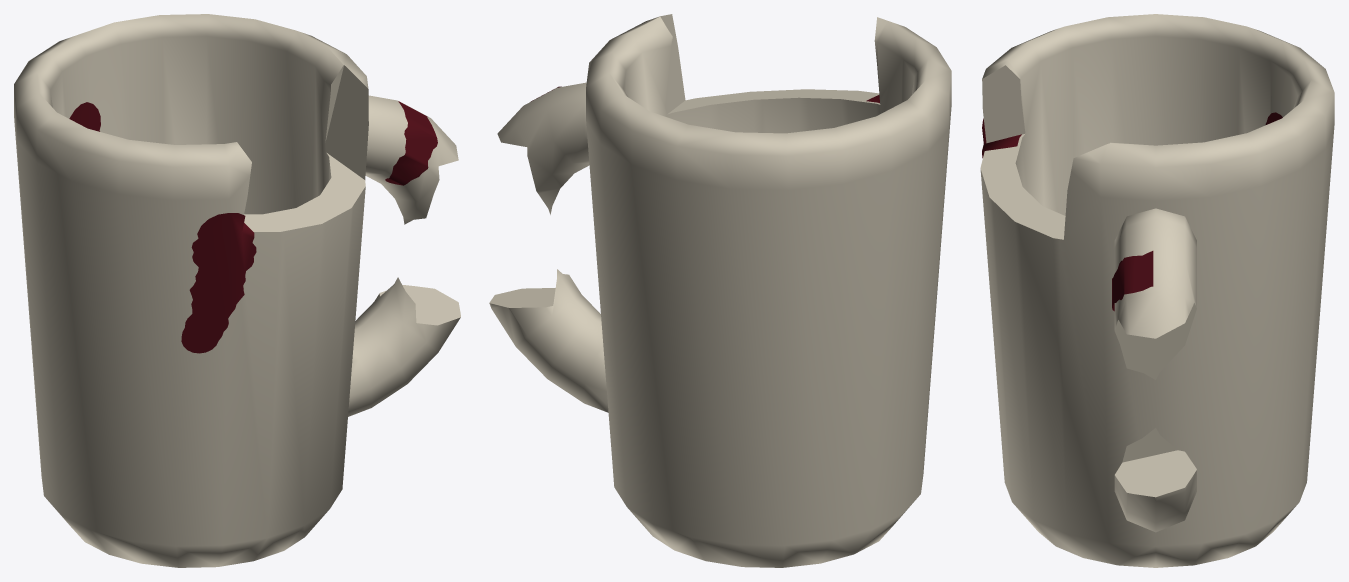
Rendered from mug.glb.
3 views of the same model, side by side, from view 1: azimuth 30°, elevation 25°; view 2: azimuth 150°, elevation 25°; view 3: azimuth 270°, elevation 25° (orthographic). The views are drawn at different scales.
Visible parts, largest first — view 1: OB_StaffMug_01_Static; view 2: OB_StaffMug_01_Static; view 3: OB_StaffMug_01_Static.
Part boxes in pixels (left/top/right/bottom): OB_StaffMug_01_Static: left=14, top=14, right=460, bottom=567; OB_StaffMug_01_Static: left=489, top=14, right=951, bottom=567; OB_StaffMug_01_Static: left=980, top=14, right=1334, bottom=567.
Bounding box in the file's own units: 0.1062 × 0.105 × 0.0773.
